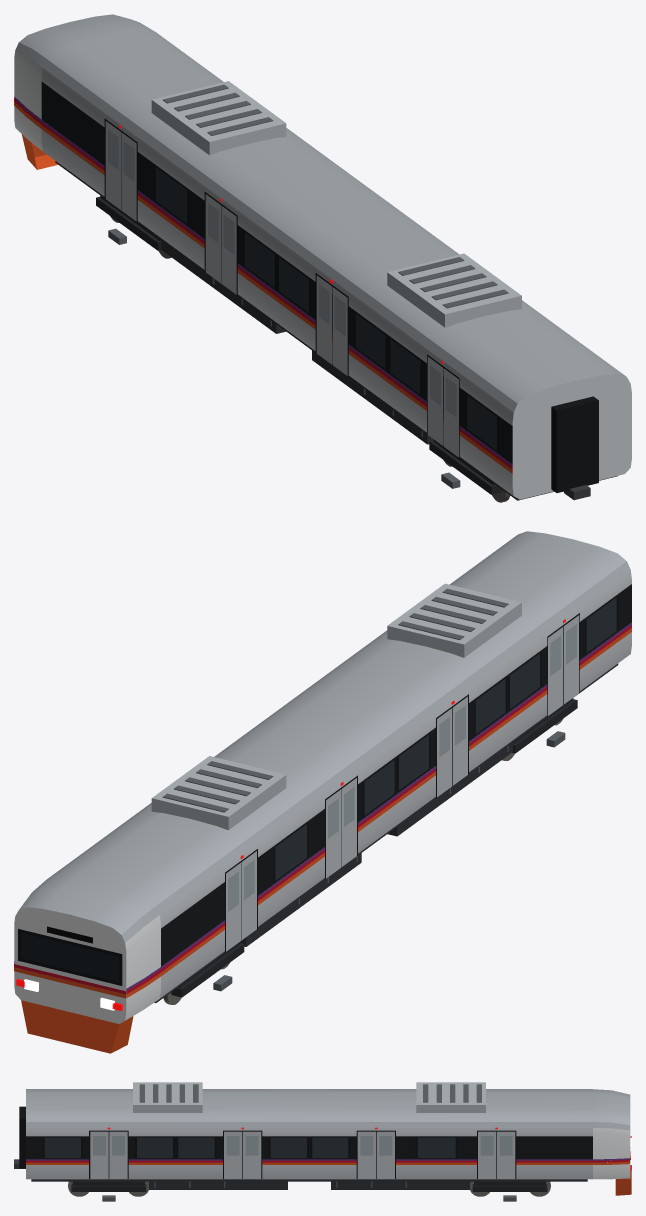
Rendered from kaohsiung-mrt-lead.glb.
The picture shows the model from 3 angles, top to bottom: view 1: azimuth 30°, elevation 25°; view 2: azimuth 150°, elevation 25°; view 3: azimuth 270°, elevation 25°; orthographic projection. The views are drawn at different scales.
Parts seen in each view (by area): view 1: KaohsiungMRT_Lead; view 2: KaohsiungMRT_Lead; view 3: KaohsiungMRT_Lead.
Boxes of the visible parts, bbox=[...] form: KaohsiungMRT_Lead: bbox=[14, 14, 631, 502]; KaohsiungMRT_Lead: bbox=[14, 531, 631, 1053]; KaohsiungMRT_Lead: bbox=[14, 1082, 631, 1201].
Bounding box in the file's own units: 3.18 × 3.89 × 23.11.
